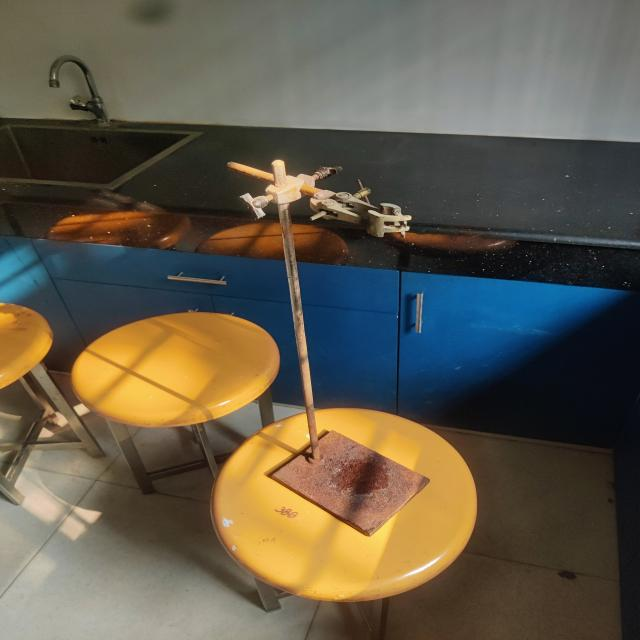Burette_Stands: (180, 132, 461, 554)
